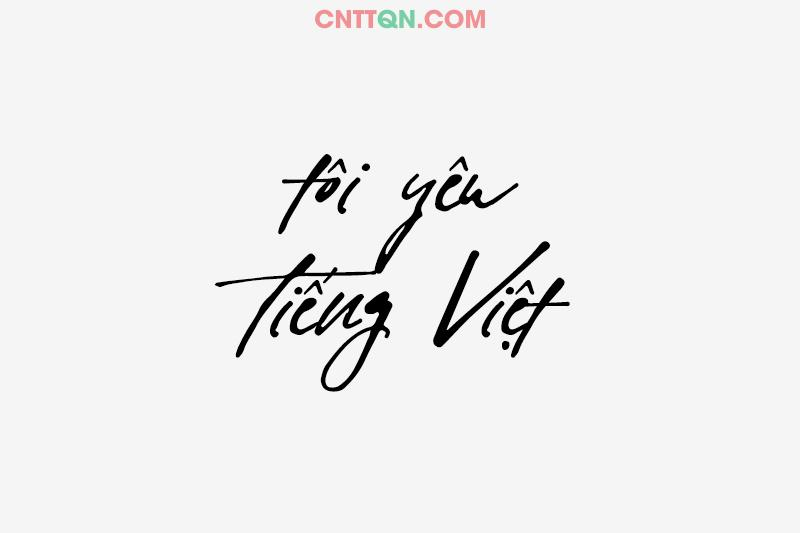text: (212, 239, 572, 396), (274, 151, 521, 274), (313, 7, 488, 30)
